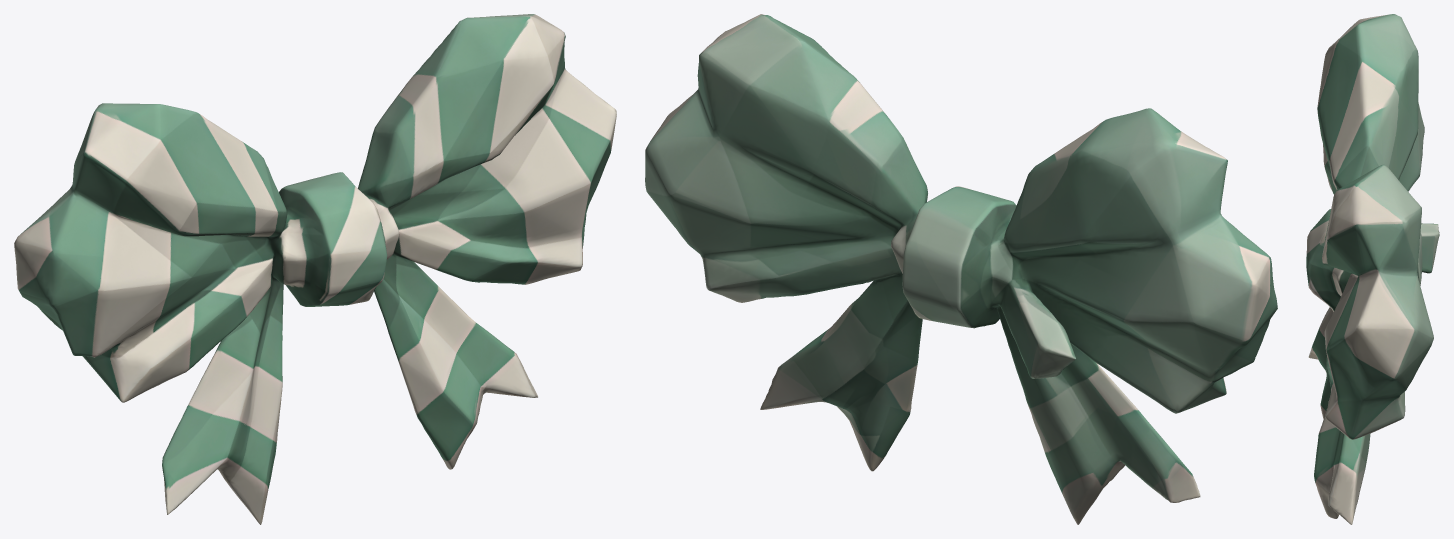
Rendered from tripo_convert_376d05e3-8dfe-4470-8fe7-d4cd338bb9d9.fbx.
3 renders of one model, left to right at view 1: azimuth 30°, elevation 25°; view 2: azimuth 150°, elevation 25°; view 3: azimuth 270°, elevation 25°, orthographic. The views are drawn at different scales.
Visible parts, largest first — view 1: tripo_node_376d05e3; view 2: tripo_node_376d05e3; view 3: tripo_node_376d05e3.
Boxes of the visible parts, bbox=[...] form: tripo_node_376d05e3: bbox=[14, 14, 616, 524]; tripo_node_376d05e3: bbox=[645, 14, 1277, 524]; tripo_node_376d05e3: bbox=[1306, 14, 1439, 524].
Bounding box in the file's own units: 97.82 × 21.86 × 68.88.
Materials: 1 (1 with a texture image).
